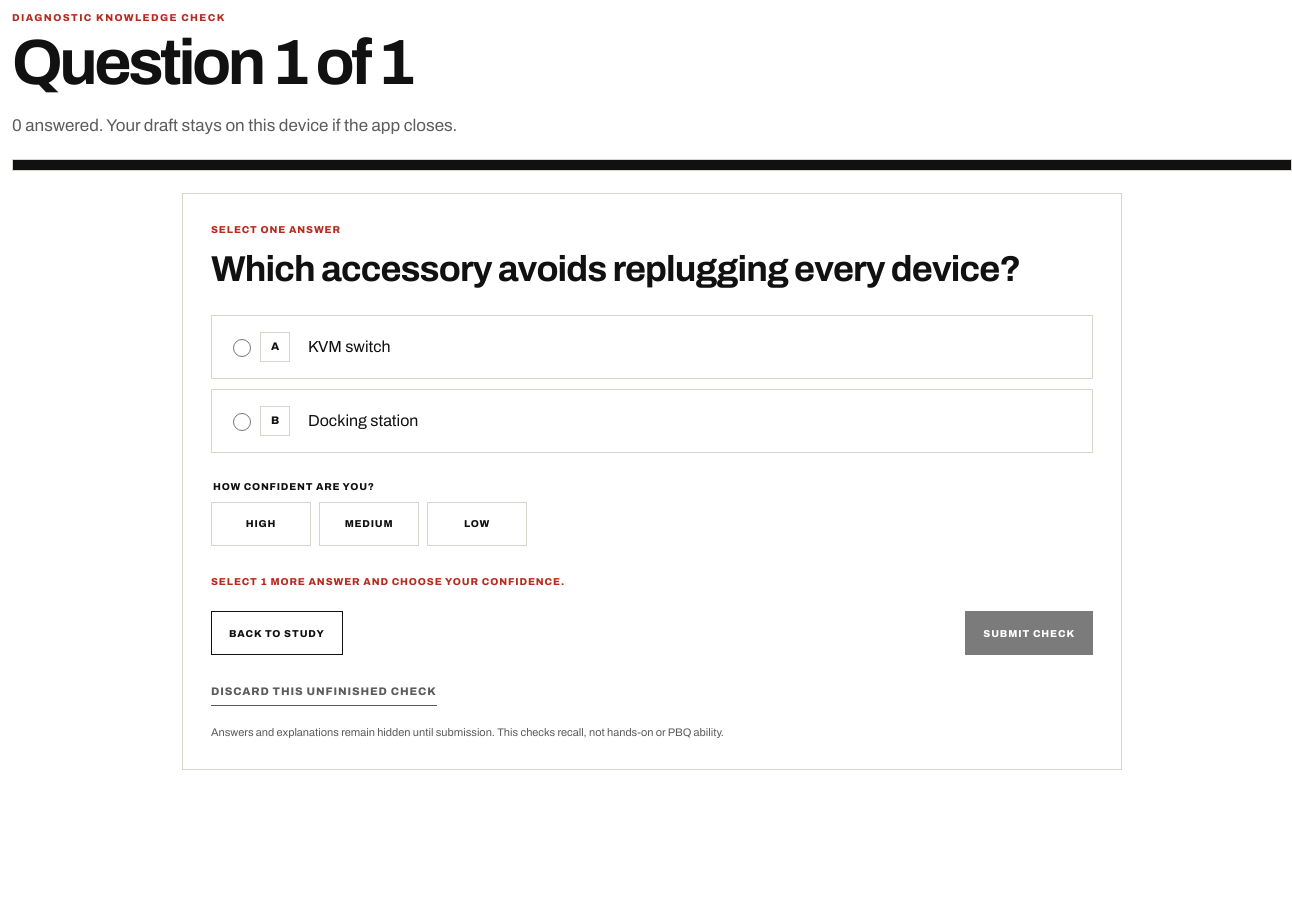
Test: DiagnosticPage submission › still surfaces other submission failures instead of navigating away
Click the radio button labelled "B Docking station".
click(242, 422)  # box 233,413 -> 251,431
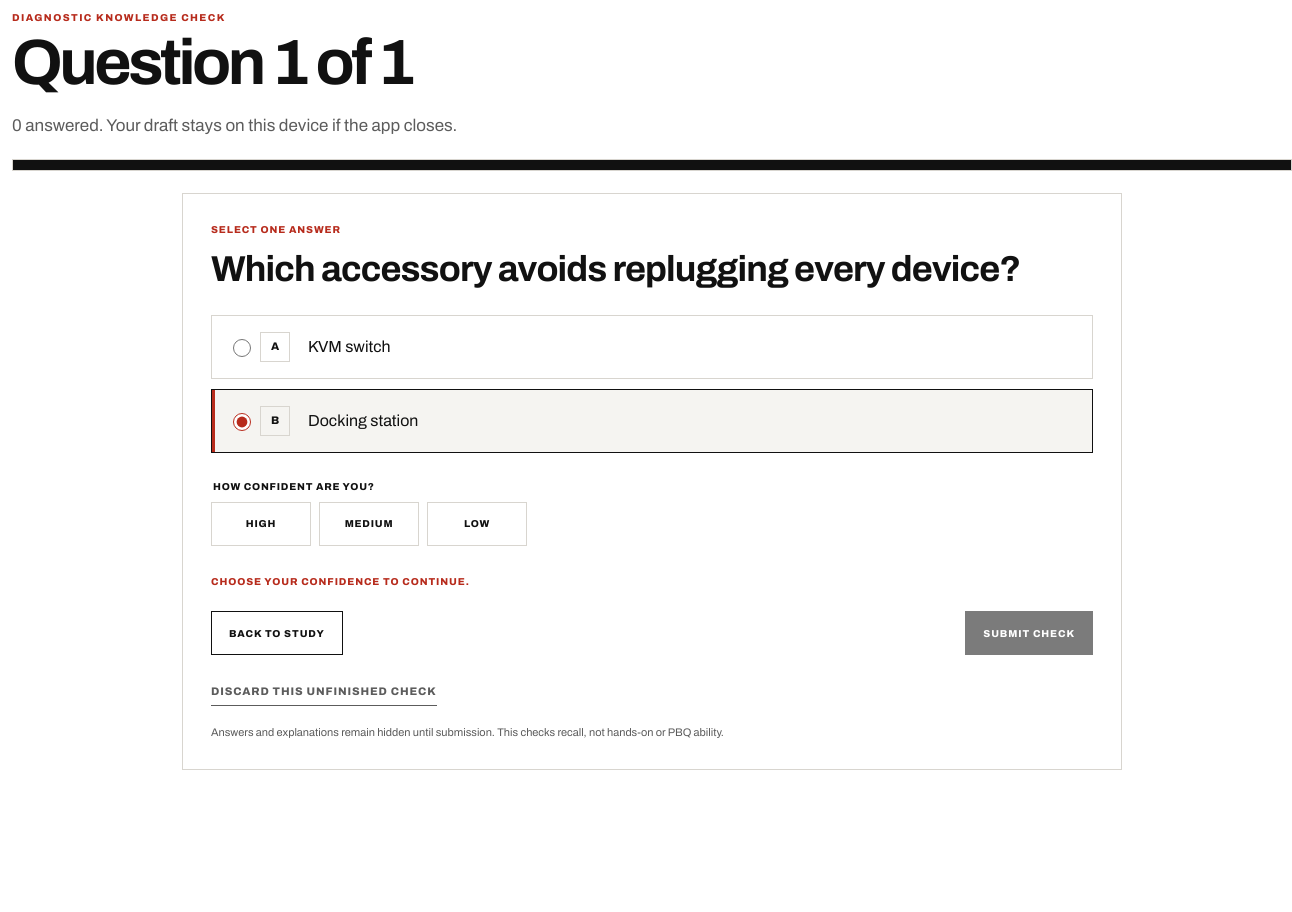
Click the button "high".
click(261, 524)  # box 211,502 -> 311,546
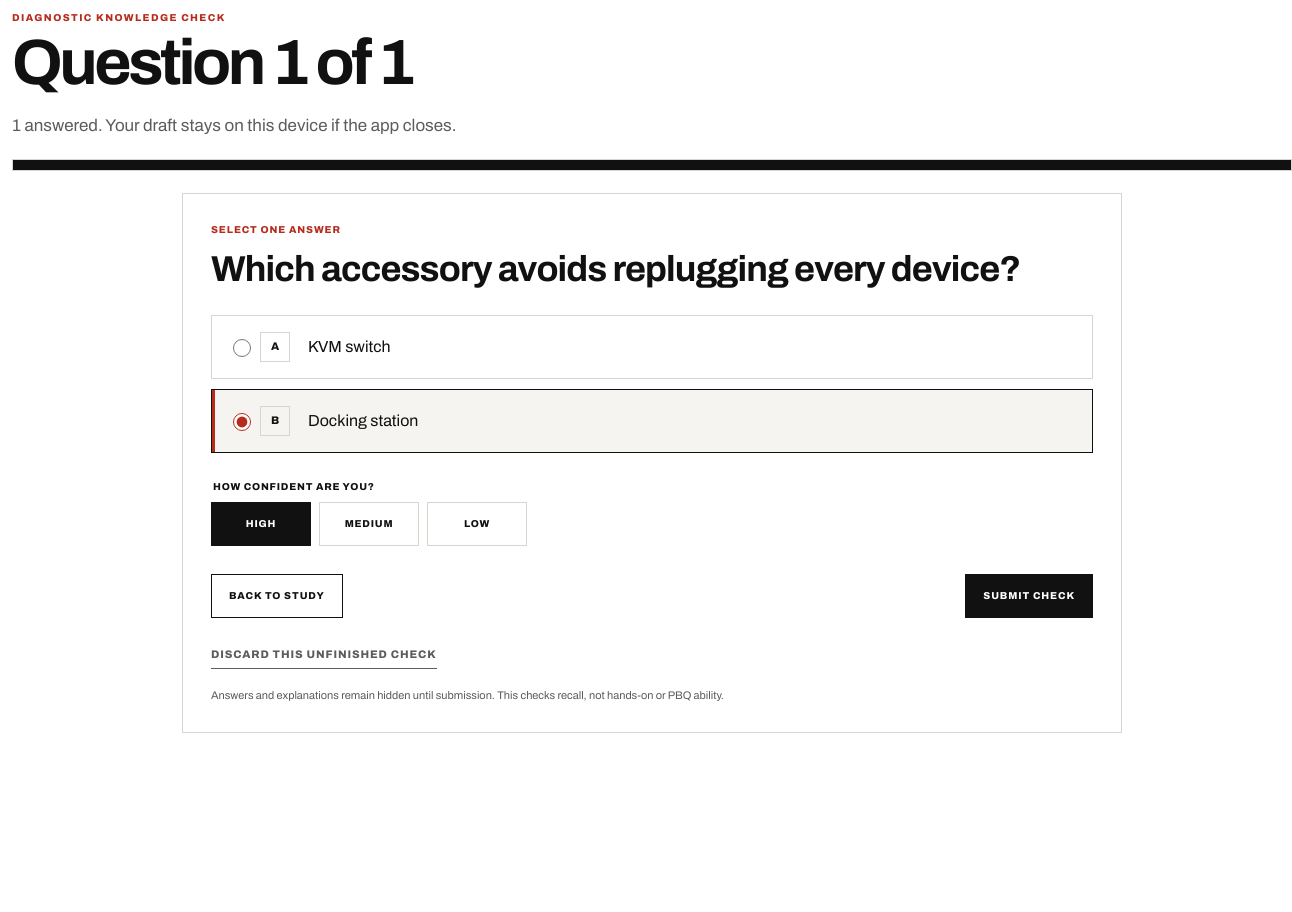
Click the button "Submit check".
click(1029, 596)  # box 965,574 -> 1093,618
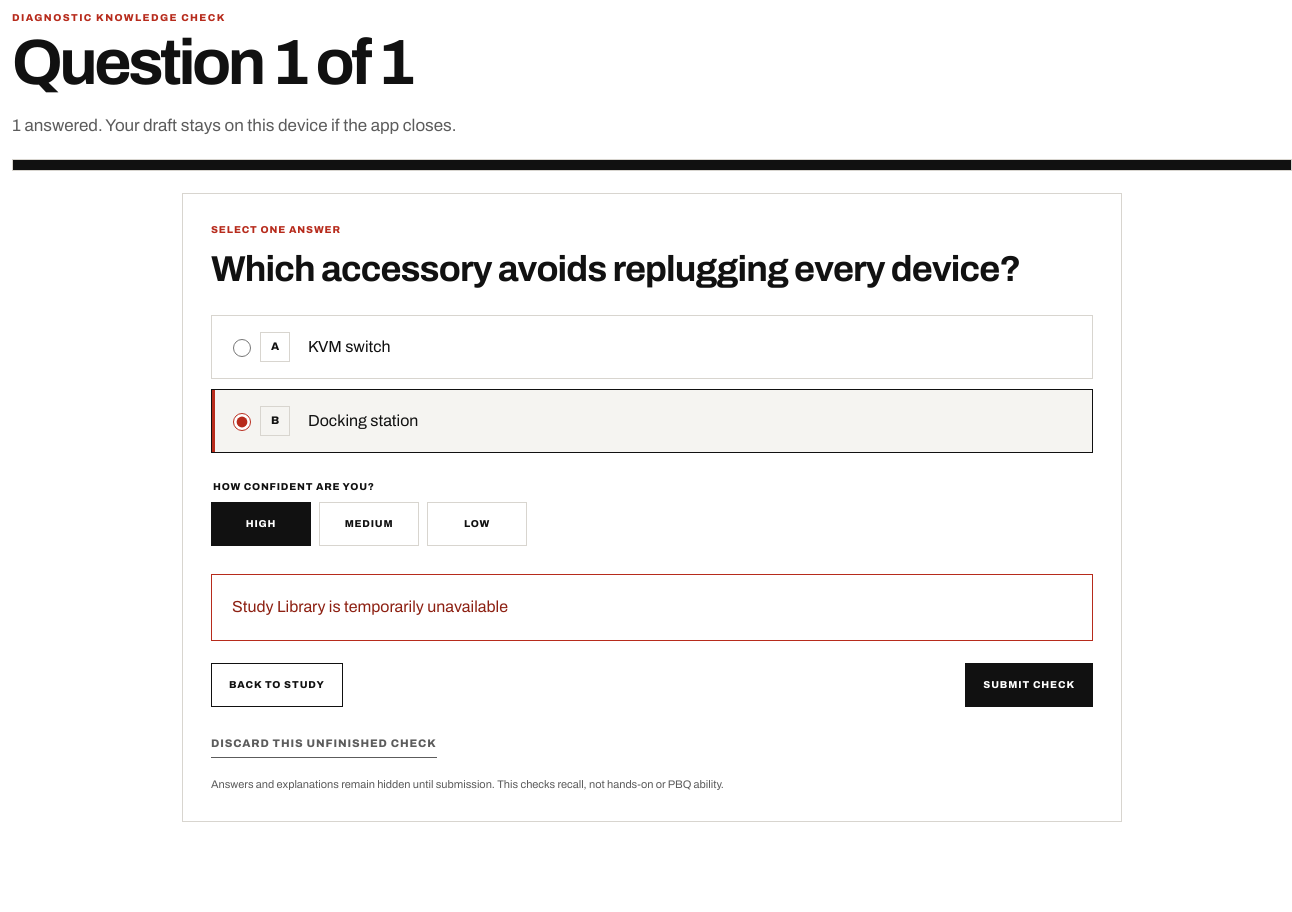
Expected: the text "Study Library is temporarily unavailable" is shown, 211,574 -> 1093,641
